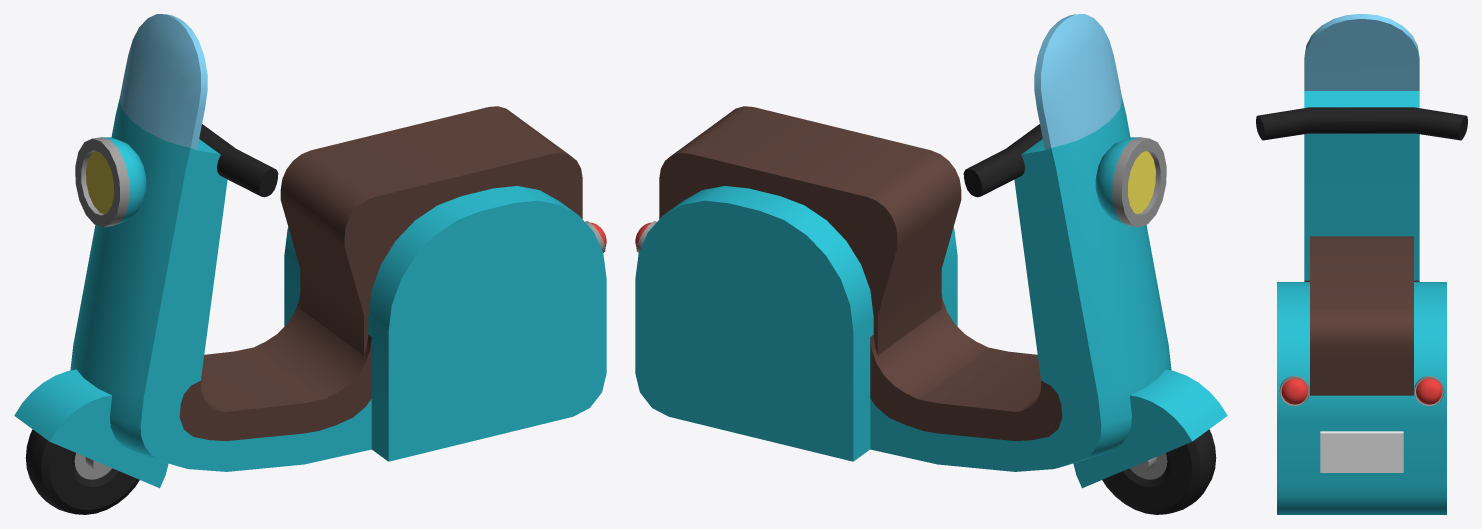
Rendered from motor_scooter.fbx.
3 renders of one model, left to right at view 1: azimuth 30°, elevation 25°; view 2: azimuth 150°, elevation 25°; view 3: azimuth 270°, elevation 25°, orthographic. The views are drawn at different scales.
Parts seen in each view (by area): view 1: Cube.734; view 2: Cube.734; view 3: Cube.734.
Part boxes in pixels (x1,y1,x2,y2): Cube.734: (14,14,606,514); Cube.734: (635,14,1227,514); Cube.734: (1256,14,1467,514).
Size of the model in its own units: 231 by 195 by 97.91.
1 material, 1 textured.
